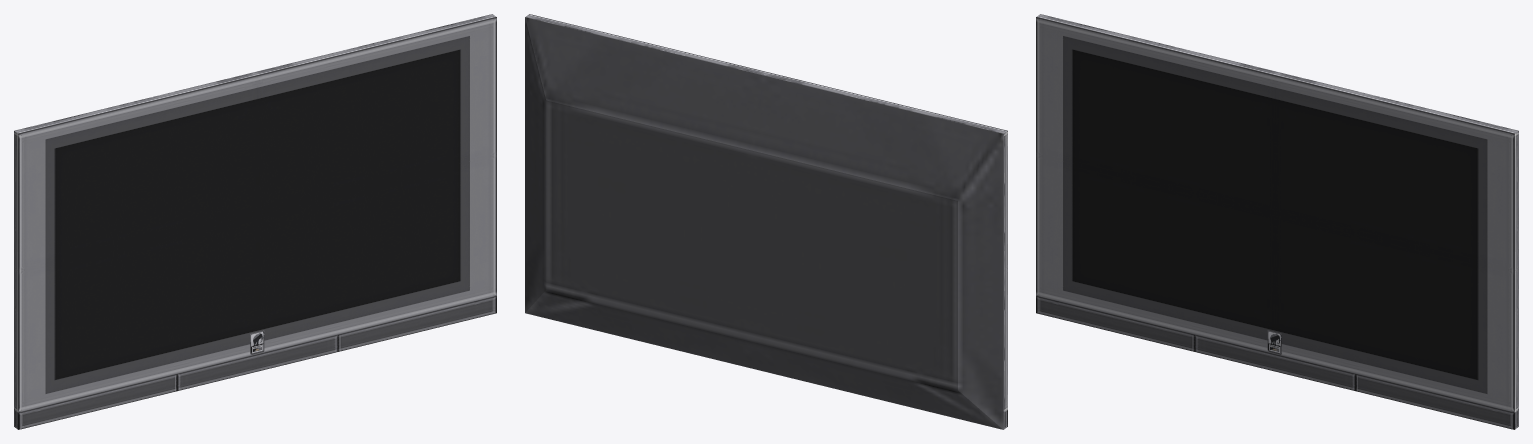
The picture shows the model from 3 angles, left to right: view 1: azimuth 30°, elevation 25°; view 2: azimuth 150°, elevation 25°; view 3: azimuth 330°, elevation 25°; orthographic projection.
Visible parts, largest first — view 1: TV; view 2: TV; view 3: TV.
Part boxes in pixels (x1,y1,x2,y2): TV: (14, 14, 496, 429); TV: (525, 14, 1007, 429); TV: (1036, 14, 1518, 429).
Bounding box in the file's own units: 186 × 110 × 11.22.
